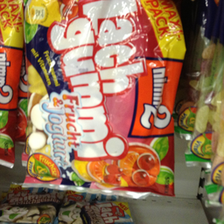candy: (23, 4, 185, 197), (192, 18, 223, 212)
